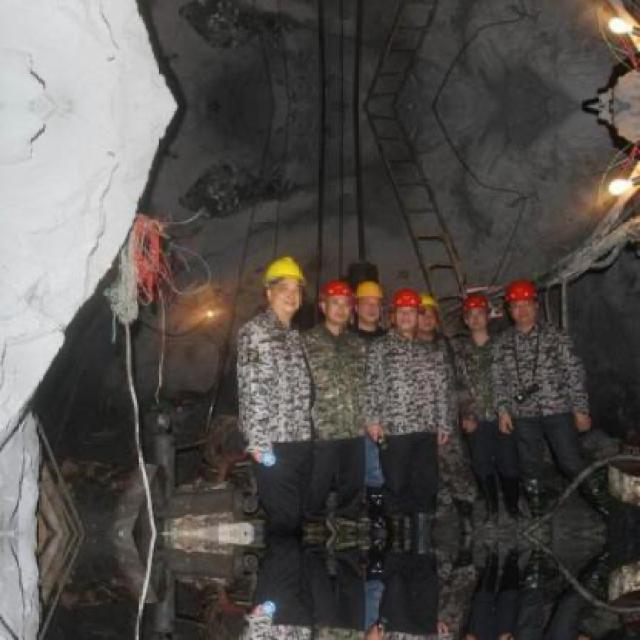con casco: (261, 249, 322, 315), (314, 282, 358, 337), (353, 278, 393, 333), (390, 276, 430, 331), (462, 288, 509, 328), (500, 280, 540, 323)
